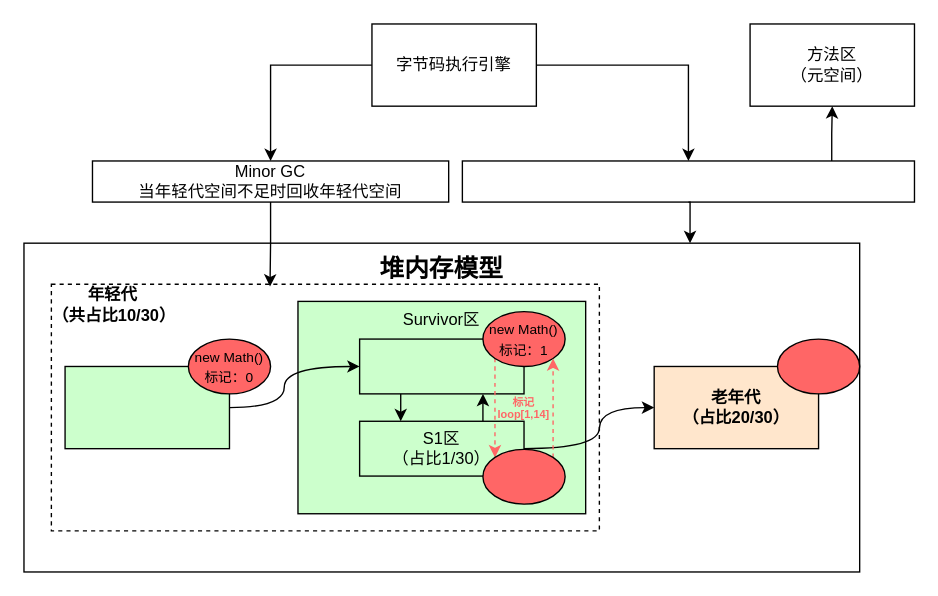
Image size: 938x596. Some labels were removed from this diagram. The box of each missing label's shape, as (x1, y1, x2, y2) in pixels:
Eden区 （占比8/30）: (64, 365, 229, 449)
Full GC/Major GC 当老年代 或方法区空间 不足时回收整个堆和可能的方法区 空间: (461, 160, 914, 202)
new Math() 标记：14: (482, 448, 565, 504)
new Math() 标记：15: (776, 338, 860, 394)
S0区 （占比1/30）: (358, 338, 524, 394)
